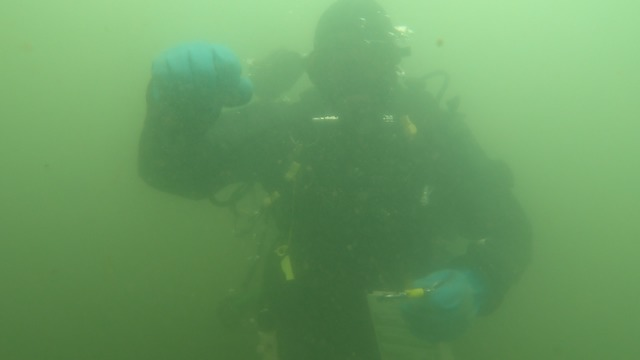Diver: (128, 9, 542, 355)
Hand: (141, 38, 261, 124), (396, 258, 494, 342)
Head: (309, 4, 412, 127)
